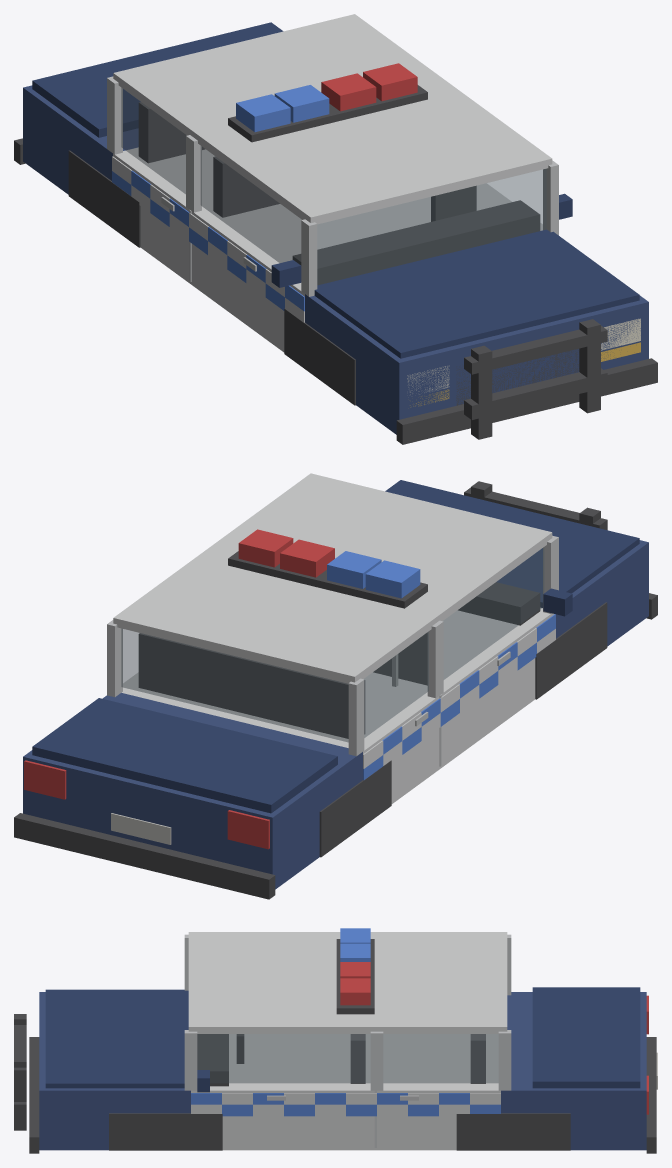
Rendered from police_body.glb.
3 renders of one model, top to bottom at view 1: azimuth 30°, elevation 25°; view 2: azimuth 150°, elevation 25°; view 3: azimuth 270°, elevation 25°, orthographic. The views are drawn at different scales.
Parts seen in each view (by area): view 1: verda_police_car; view 2: verda_police_car; view 3: verda_police_car.
Part boxes in pixels (x1,y1,x2,y2): verda_police_car: (14,14,657,444); verda_police_car: (14,473,657,899); verda_police_car: (14,928,657,1153).
Bounding box in the file's own units: 2.16 × 1.27 × 5.09.
